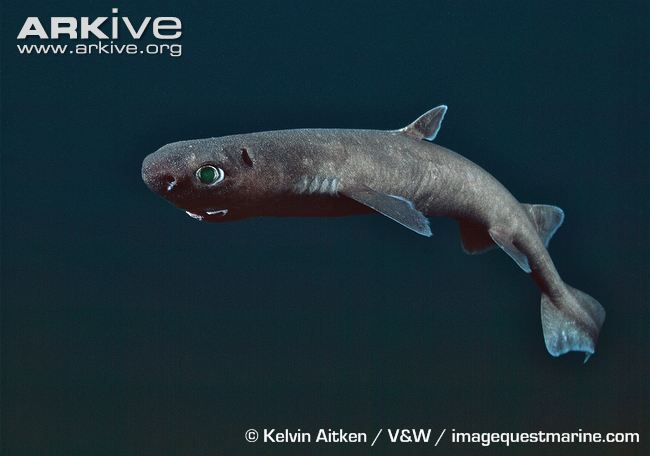shark: (106, 77, 615, 373)
